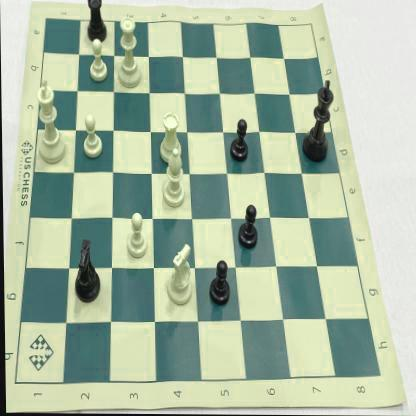black-king: (298, 75, 339, 167)
black-knight: (72, 237, 102, 308)
black-pawn: (234, 199, 260, 255), (206, 256, 232, 309), (227, 118, 250, 168)
black-rook: (82, 0, 110, 46)
white-bishop: (161, 147, 188, 209)
white-king: (33, 76, 68, 168)
white-knight: (164, 240, 193, 309)
white-pawn: (122, 209, 149, 262), (78, 109, 104, 162), (85, 36, 112, 85)
white-queen: (116, 15, 144, 94)
white-rook: (156, 110, 184, 166)
